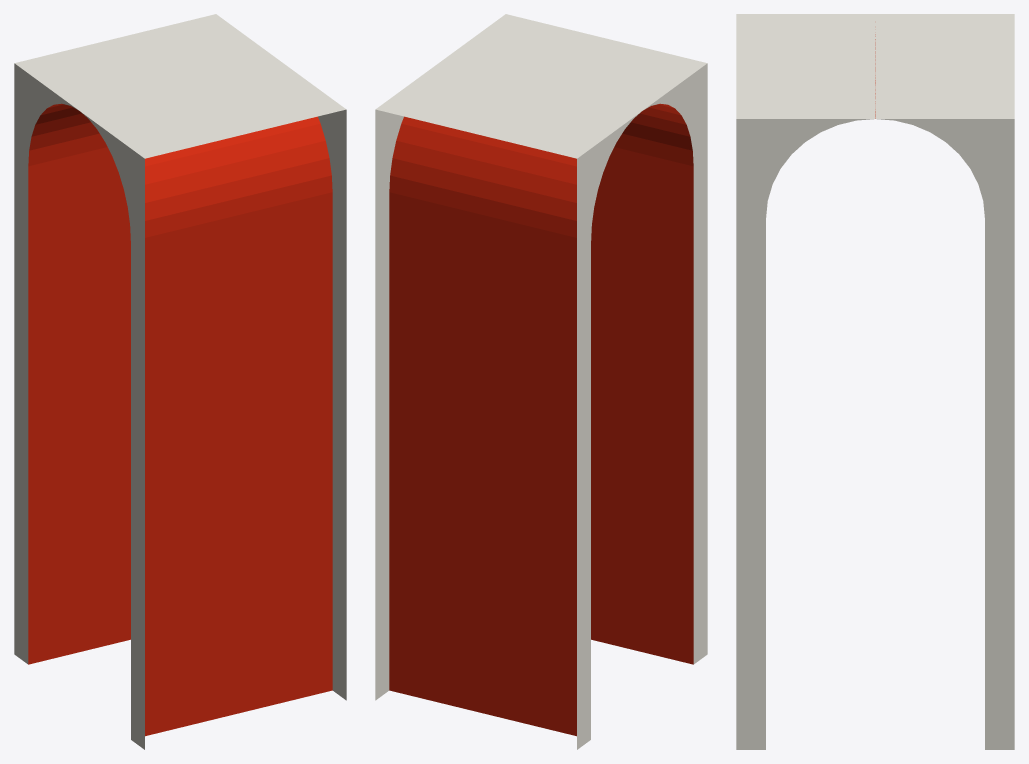
Rendered from SM_PeriArchBay.fbx.
The picture shows the model from 3 angles, left to right: view 1: azimuth 30°, elevation 25°; view 2: azimuth 150°, elevation 25°; view 3: azimuth 270°, elevation 25°; orthographic projection. The views are drawn at different scales.
Parts seen in each view (by area): view 1: SM_PeriArchBay; view 2: SM_PeriArchBay; view 3: SM_PeriArchBay.
Boxes of the visible parts, x1,y1,x2,y2 form: SM_PeriArchBay: (14,14,346,749); SM_PeriArchBay: (375,14,707,749); SM_PeriArchBay: (736,14,1014,749).
Size of the model in its own units: 500 by 560 by 1400.
